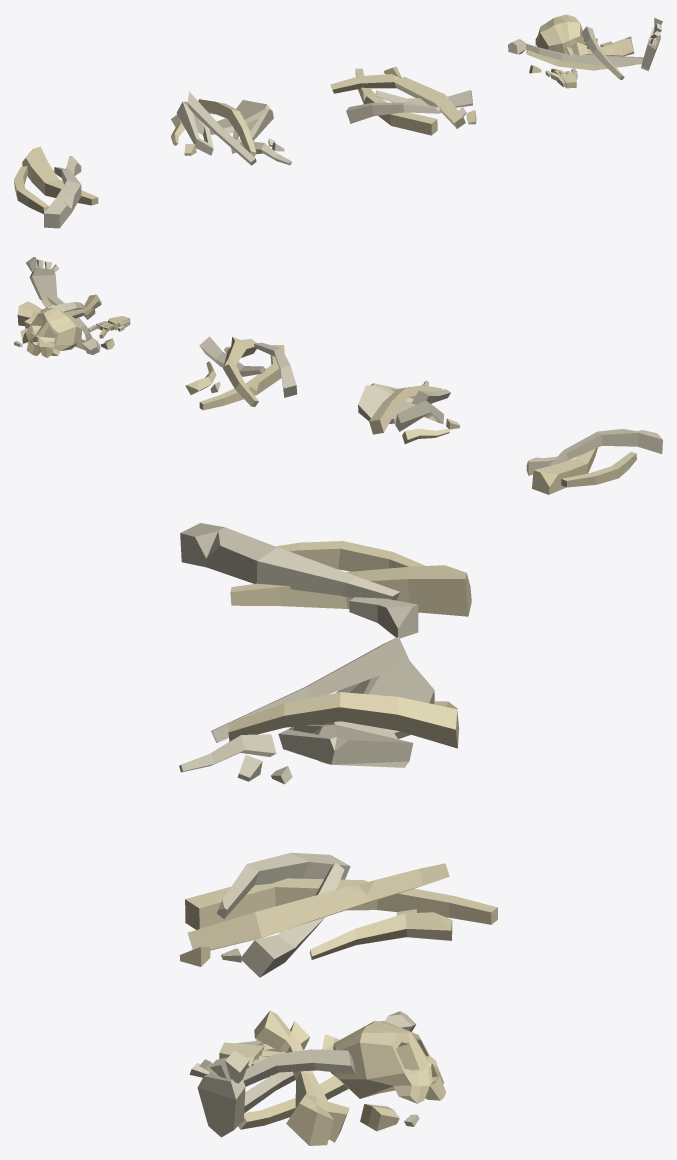
Rendered from Bones.fbx.
3 renders of one model, top to bottom at view 1: azimuth 30°, elevation 25°; view 2: azimuth 150°, elevation 25°; view 3: azimuth 270°, elevation 25°, orthographic. The views are drawn at different scales.
Visible parts, largest first — view 1: Bones04, Bones03, Bones02, Bones01; view 2: Bones04, Bones01, Bones03, Bones02; view 3: Bones03, Bones04, Bones02, Bones01.
Boxes of the visible parts, x1,y1,x2,y2 form: Bones04: [508, 14, 662, 88]; Bones03: [330, 66, 476, 135]; Bones02: [171, 91, 291, 165]; Bones01: [14, 146, 98, 228]; Bones04: [14, 257, 130, 357]; Bones01: [526, 429, 662, 494]; Bones03: [185, 336, 297, 410]; Bones02: [358, 380, 459, 443]; Bones03: [179, 852, 497, 977]; Bones04: [189, 1010, 446, 1145]; Bones02: [179, 636, 459, 784]; Bones01: [180, 523, 471, 638].
Bounding box in the file's own units: 5.26 × 0.4583 × 1.16.
